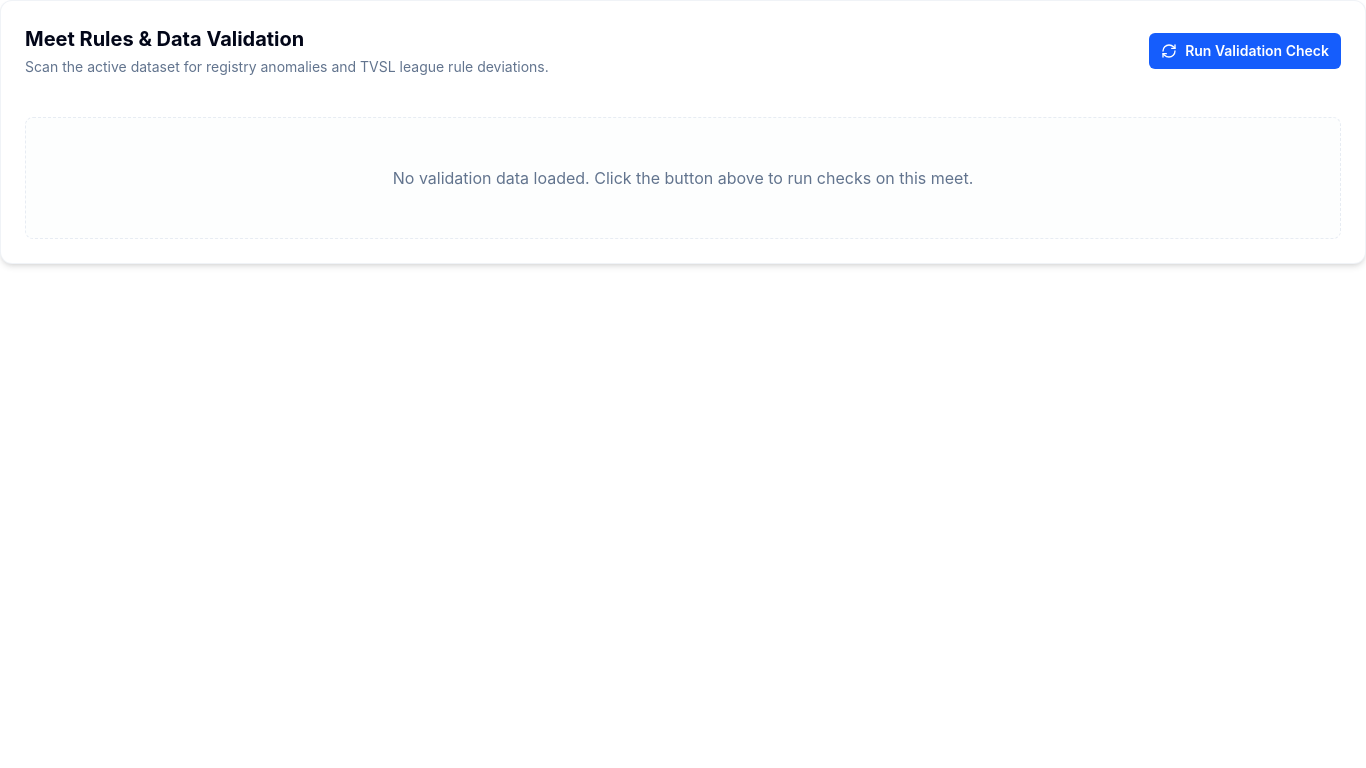
Test: MeetValidation › filters findings by category when category chip is clicked
The width and height of the screenshot is (1366, 768).
Click the button "Run Validation Check". click: (1245, 51)
box: [1149,33,1341,69]
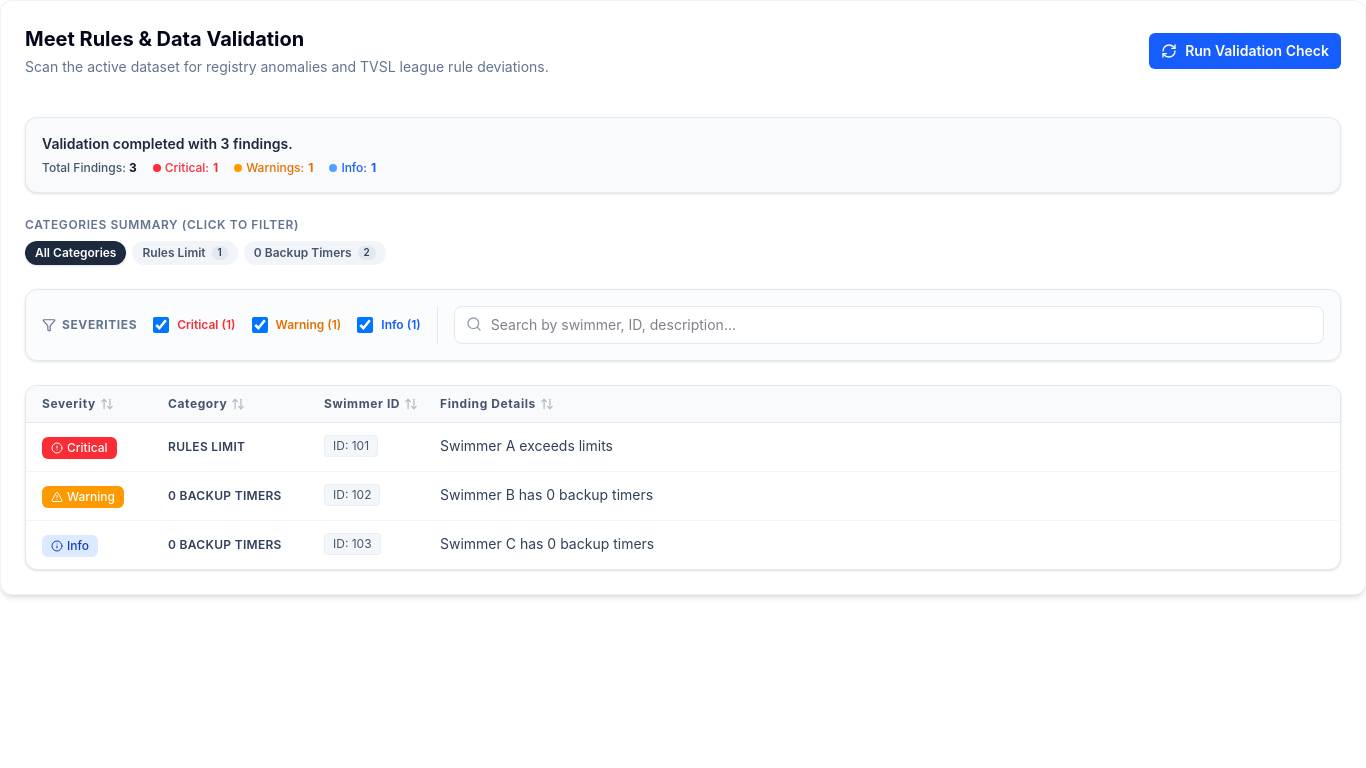
Now the text "Swimmer A exceeds limits" is shown, box [440,437,613,454]
Find the "Rules Limit" category chip button and click it
Click the button with test id "category-chip-Rules Limit". click: (185, 253)
box: [132,241,238,265]
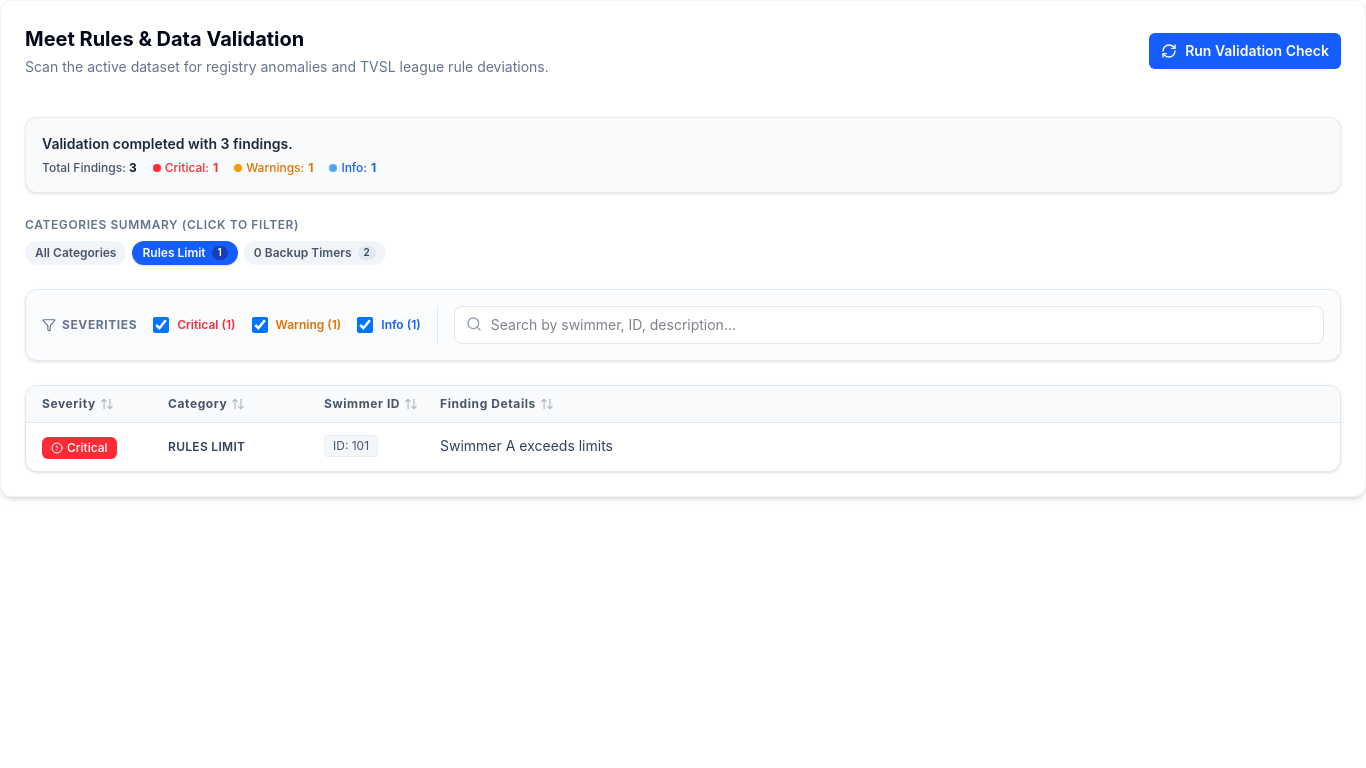
Now the text "Swimmer A exceeds limits" is shown, box [440,437,613,454]
Now the text "Swimmer B has 0 backup timers" is gone
